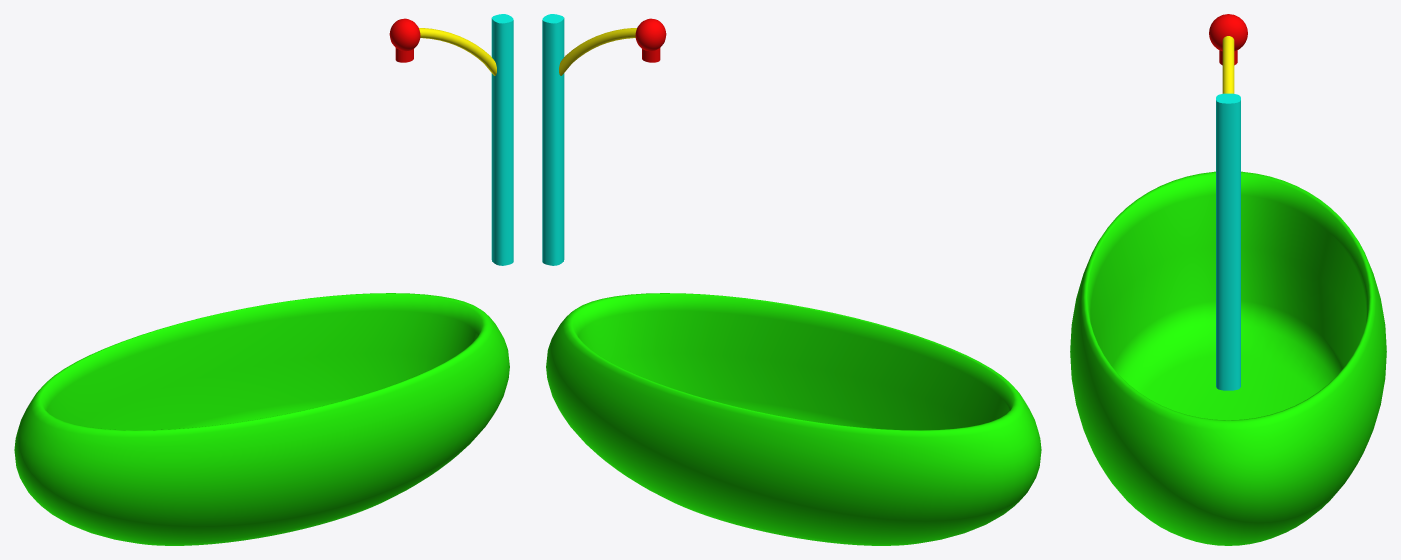
Rendered from umgebung_badewanne_low.FBX.
3 renders of one model, left to right at view 1: azimuth 30°, elevation 25°; view 2: azimuth 150°, elevation 25°; view 3: azimuth 270°, elevation 25°, orthographic. The views are drawn at different scales.
Parts seen in each view (by area): view 1: o_badewanne_low, o_stange_low, o_duschkopfstange_low, o_schaedel_low; view 2: o_badewanne_low, o_stange_low, o_duschkopfstange_low, o_schaedel_low; view 3: o_badewanne_low, o_stange_low, o_schaedel_low, o_duschkopfstange_low.
Boxes of the visible parts, <box> form: o_badewanne_low: <box>14,293,509,545</box>; o_stange_low: <box>491,14,513,265</box>; o_duschkopfstange_low: <box>419,28,496,75</box>; o_schaedel_low: <box>389,18,420,51</box>; o_badewanne_low: <box>546,293,1041,545</box>; o_stange_low: <box>542,14,564,265</box>; o_duschkopfstange_low: <box>559,28,636,75</box>; o_schaedel_low: <box>635,18,666,51</box>; o_badewanne_low: <box>1070,171,1386,545</box>; o_stange_low: <box>1216,93,1240,390</box>; o_schaedel_low: <box>1209,14,1247,51</box>; o_duschkopfstange_low: <box>1222,36,1234,93</box>.
Size of the model in its own units: 325 by 286 by 154.
